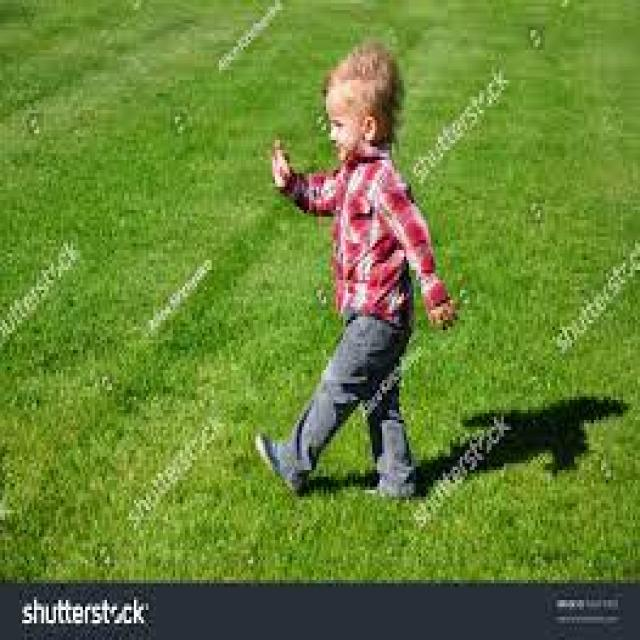Person: (257, 41, 458, 501)
